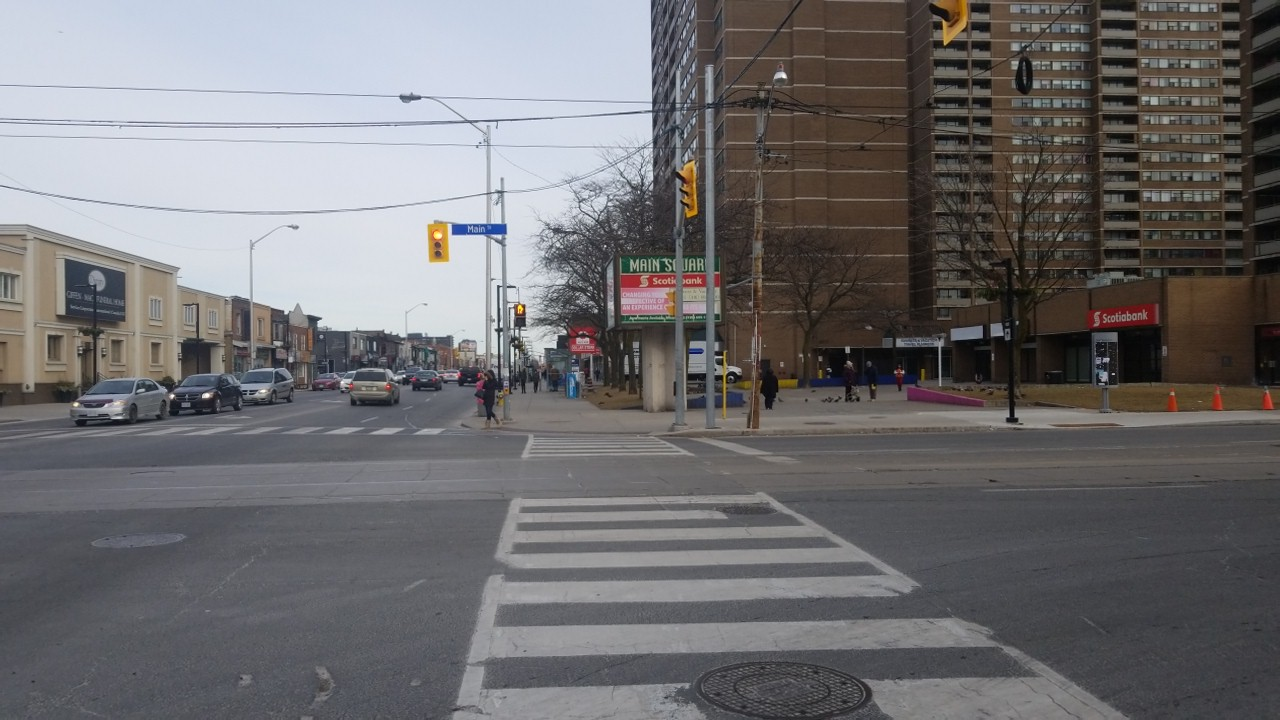light: (513, 302, 526, 328)
